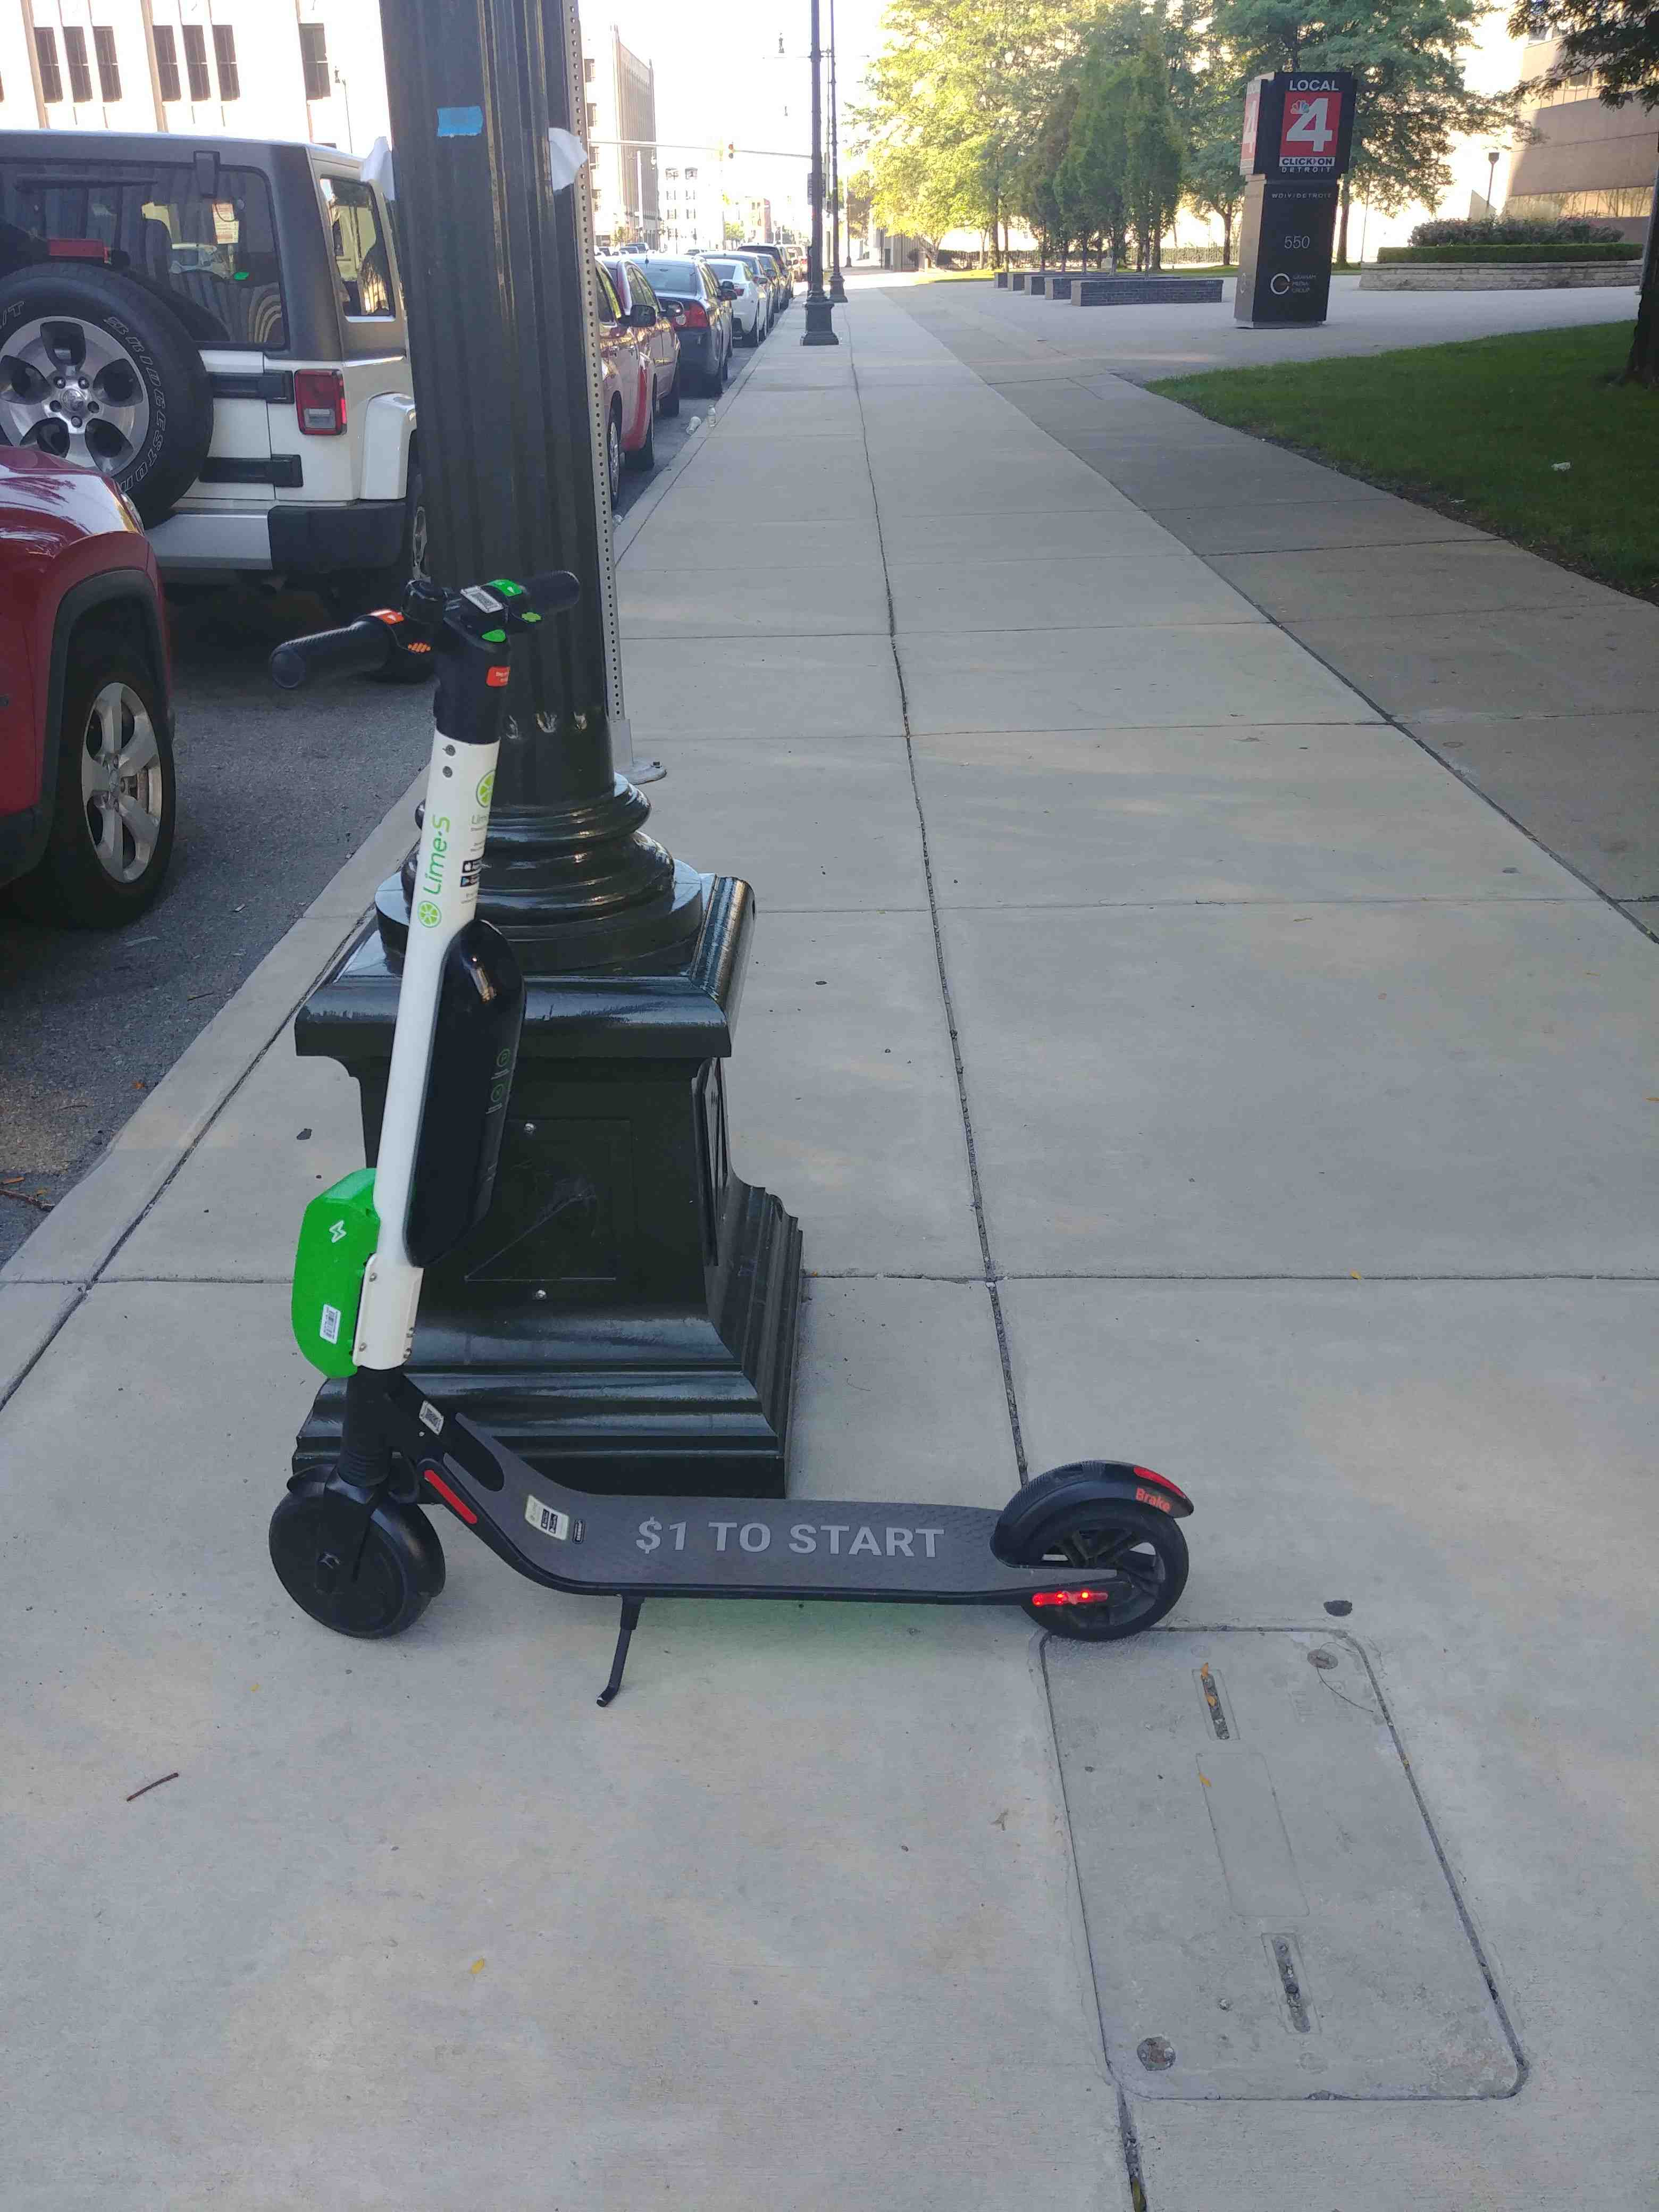scooter: (223, 549, 1223, 1731)
